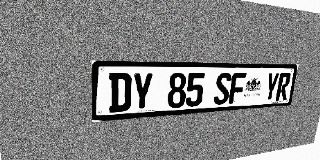5: (185, 73, 205, 107)
8: (167, 73, 188, 108)
D: (109, 73, 132, 113)
F: (228, 73, 246, 104)
R: (275, 73, 291, 101)
S: (213, 73, 232, 105)
Y: (131, 73, 153, 111), (263, 73, 280, 102)
